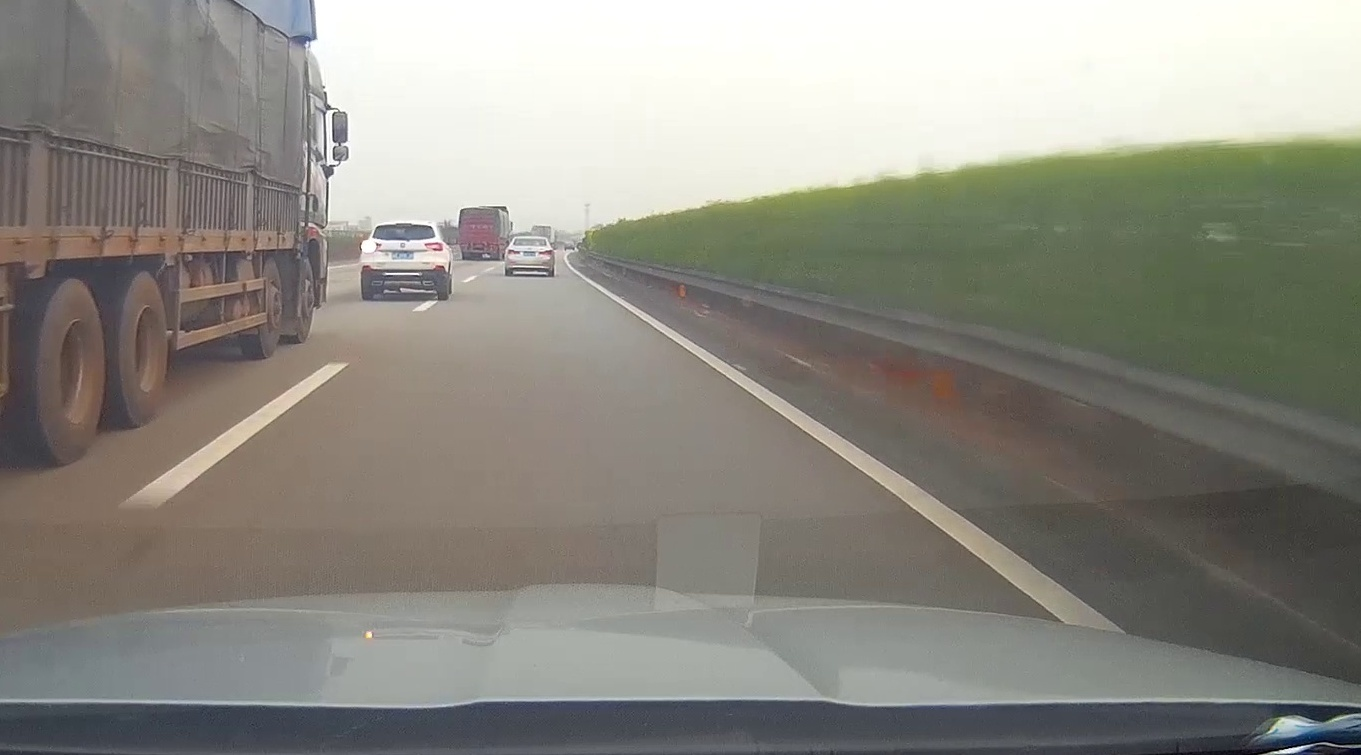L_light: (360, 239, 381, 253), (508, 249, 520, 255)
R_light: (424, 242, 444, 251), (539, 249, 552, 255)
T_light: (396, 222, 412, 226), (528, 238, 536, 240)
day-left: (359, 219, 446, 300)
day-no: (504, 236, 554, 275)
